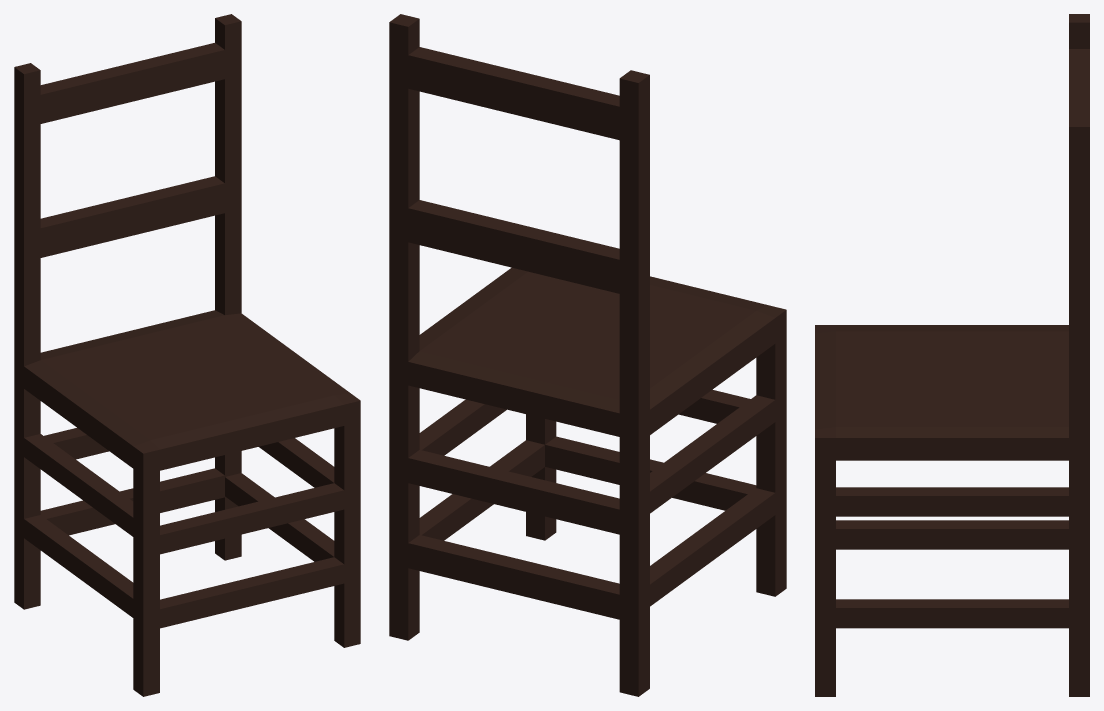
Rendered from cube.579_lev3.glb.
The picture shows the model from 3 angles, left to right: view 1: azimuth 30°, elevation 25°; view 2: azimuth 150°, elevation 25°; view 3: azimuth 270°, elevation 25°; orthographic projection. The views are drawn at different scales.
Parts seen in each view (by area): view 1: cube.579_lev3; view 2: cube.579_lev3; view 3: cube.579_lev3.
Part boxes in pixels (box(x1,y1,x2,y2)): cube.579_lev3: box(14, 14, 360, 696); cube.579_lev3: box(389, 14, 786, 696); cube.579_lev3: box(815, 14, 1089, 696).
Bounding box in the file's own units: 0.3303 × 0.7772 × 0.3398.
